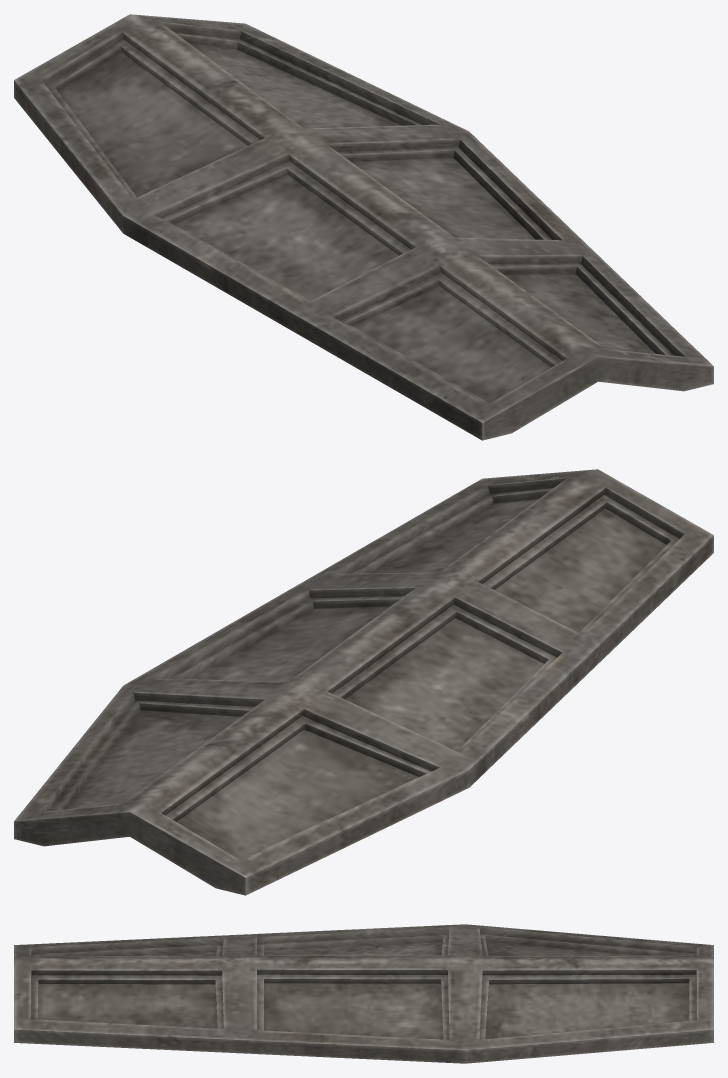
File: SM_Stone_Coffin_Lid.glb
3 views of the same model, one above another, from view 1: azimuth 30°, elevation 25°; view 2: azimuth 150°, elevation 25°; view 3: azimuth 270°, elevation 25° (orthographic). The views are drawn at different scales.
Parts seen in each view (by area): view 1: SM_Stone_Coffin_Lid; view 2: SM_Stone_Coffin_Lid; view 3: SM_Stone_Coffin_Lid.
Boxes of the visible parts, box(x1,y1,x2,y2) form: SM_Stone_Coffin_Lid: box(14, 14, 713, 440); SM_Stone_Coffin_Lid: box(14, 469, 713, 895); SM_Stone_Coffin_Lid: box(14, 924, 713, 1063).
Bounding box in the file's own units: 0.8572 × 0.1311 × 2.01.
Materials: 1 (1 with a texture image).
